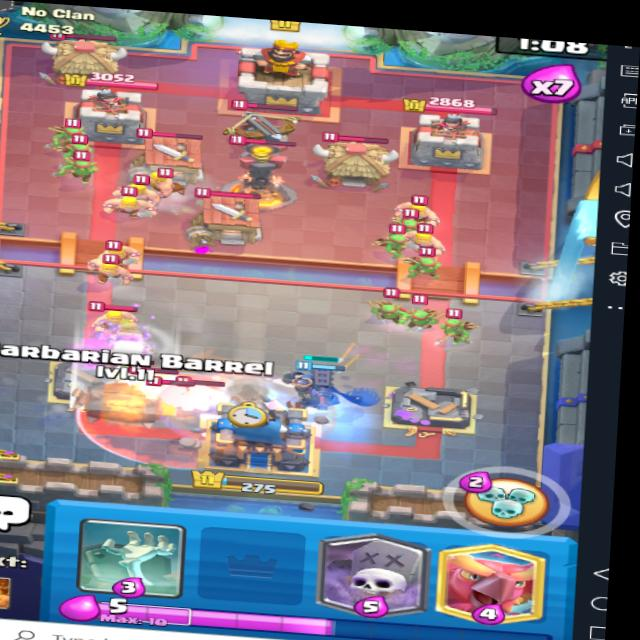barbarian: (100, 187, 161, 220), (89, 295, 138, 331), (143, 162, 187, 201), (393, 194, 445, 226), (93, 237, 144, 267), (404, 227, 452, 256), (114, 178, 158, 201), (91, 259, 138, 280)
barbarian-hut: (186, 186, 274, 244), (128, 124, 210, 186)
goblin-hut: (310, 129, 404, 196), (41, 26, 123, 85)
inferno-tower: (226, 132, 302, 209)
spear-goblin: (444, 297, 485, 331), (402, 288, 437, 324), (367, 283, 404, 316), (403, 252, 447, 276), (374, 229, 405, 260), (64, 136, 97, 164), (69, 156, 100, 184), (390, 211, 423, 237), (53, 118, 84, 145)
x-bow: (208, 90, 308, 159)
